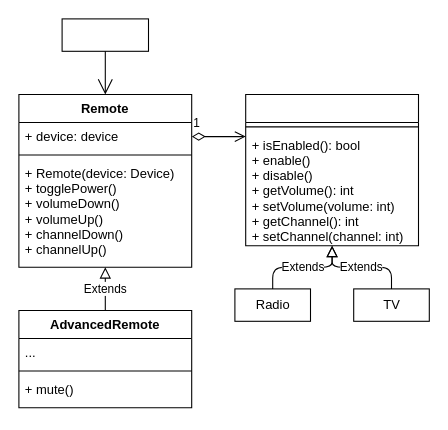
The diagram is 448 pixels wide and 430 high, and some of its shapes have lost their labels. Here are the shapes that lost their labels. From the top down, the box of each, then its label:
(61, 18, 148, 51): Client
(245, 93, 418, 246): Device
